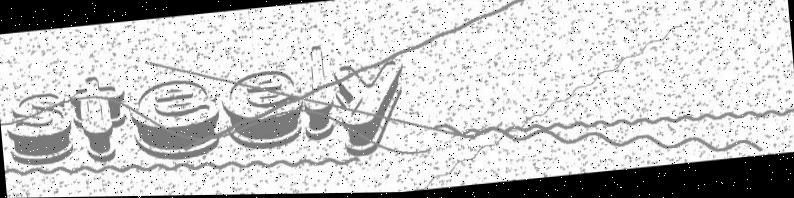e: (132, 74, 226, 167), (217, 66, 310, 154)
l: (296, 46, 339, 150)
s: (3, 83, 75, 171)
t: (66, 70, 135, 166)
y: (329, 54, 417, 168)
